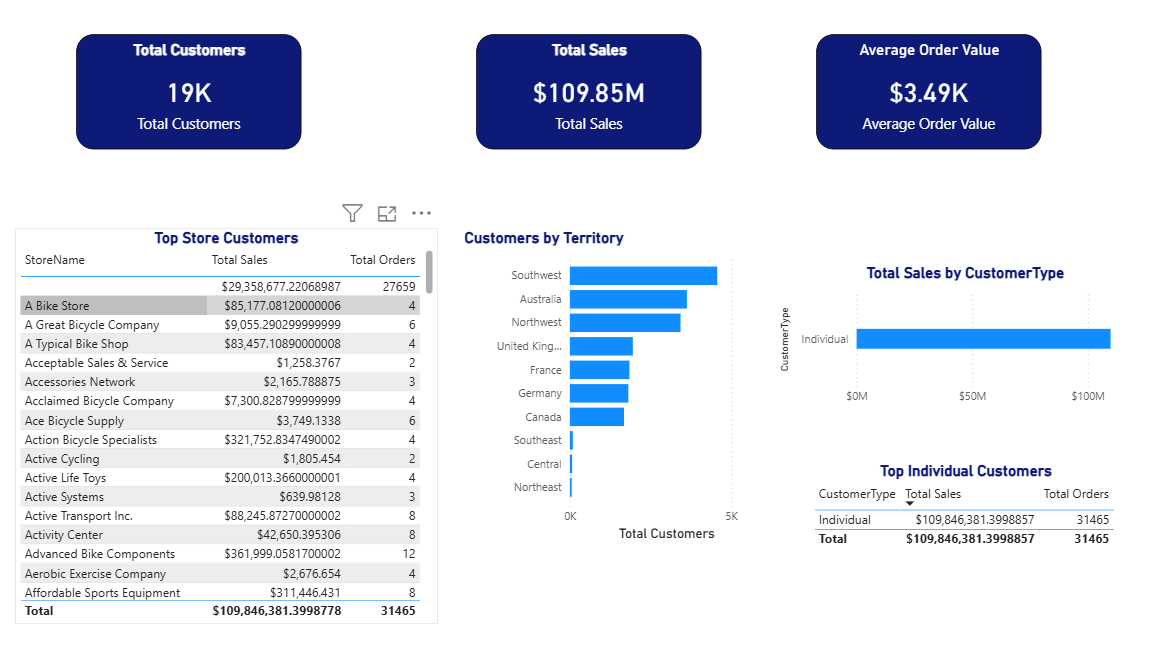

What the dashboard file says about the page in this screenshot:
{"tool":"powerbi","page":{"name":"Customer Analysis","canvas":[1280,720],"ordinal":3},"visuals":[{"type":"card","title":"Total Customers","fields":{"Values":["Table.Total Customers"]},"box":[95.1,46,247.2,126.8],"z":0},{"type":"card","title":"Total Sales ","fields":{"Values":["Table.Total Sales"]},"box":[534,46,247.2,126.8],"z":1000},{"type":"card","title":"Average Order Value ","fields":{"Values":["Table.Average Order Value"]},"box":[906.4,46,247.2,126.8],"z":2000},{"type":"barChart","fields":{"Category":["vw_DimCustomer.CustomerType"],"Y":["Table.Total Sales"]},"box":[862,296.3,418.3,164.8],"z":3000},{"type":"tableEx","title":"Top Individual Customers","fields":{"Values":["vw_DimCustomer.CustomerType","Table.Total Sales","Table.Total Orders"]},"box":[898.4,515,345.4,106.2],"z":4000},{"type":"tableEx","title":"Top Store Customers","fields":{"Values":["vw_DimCustomer.StoreName","Table.Total Sales","Table.Total Orders"]},"box":[26.9,258.3,464.3,434.2],"z":5000},{"type":"clusteredBarChart","title":"Customers by Territory","fields":{"Category":["vw_DimTerritory.TerritoryName"],"Y":["Table.Total Customers"]},"box":[516.6,258.3,345.4,348.6],"z":6000}]}

Visuals, with their boxes in screenshot pixels (x1, y1, x2, y2), scaled from the page's 1280x720 canvas onto the 1150x646 screenshot:
"Total Customers" card: BBox(85, 41, 308, 155)
"Total Sales " card: BBox(480, 41, 702, 155)
"Average Order Value " card: BBox(814, 41, 1036, 155)
barChart - vw_DimCustomer.CustomerType x Table.Total Sales: BBox(774, 266, 1149, 414)
"Top Individual Customers" tableEx: BBox(807, 462, 1117, 557)
"Top Store Customers" tableEx: BBox(24, 232, 441, 621)
"Customers by Territory" clusteredBarChart: BBox(464, 232, 774, 545)
